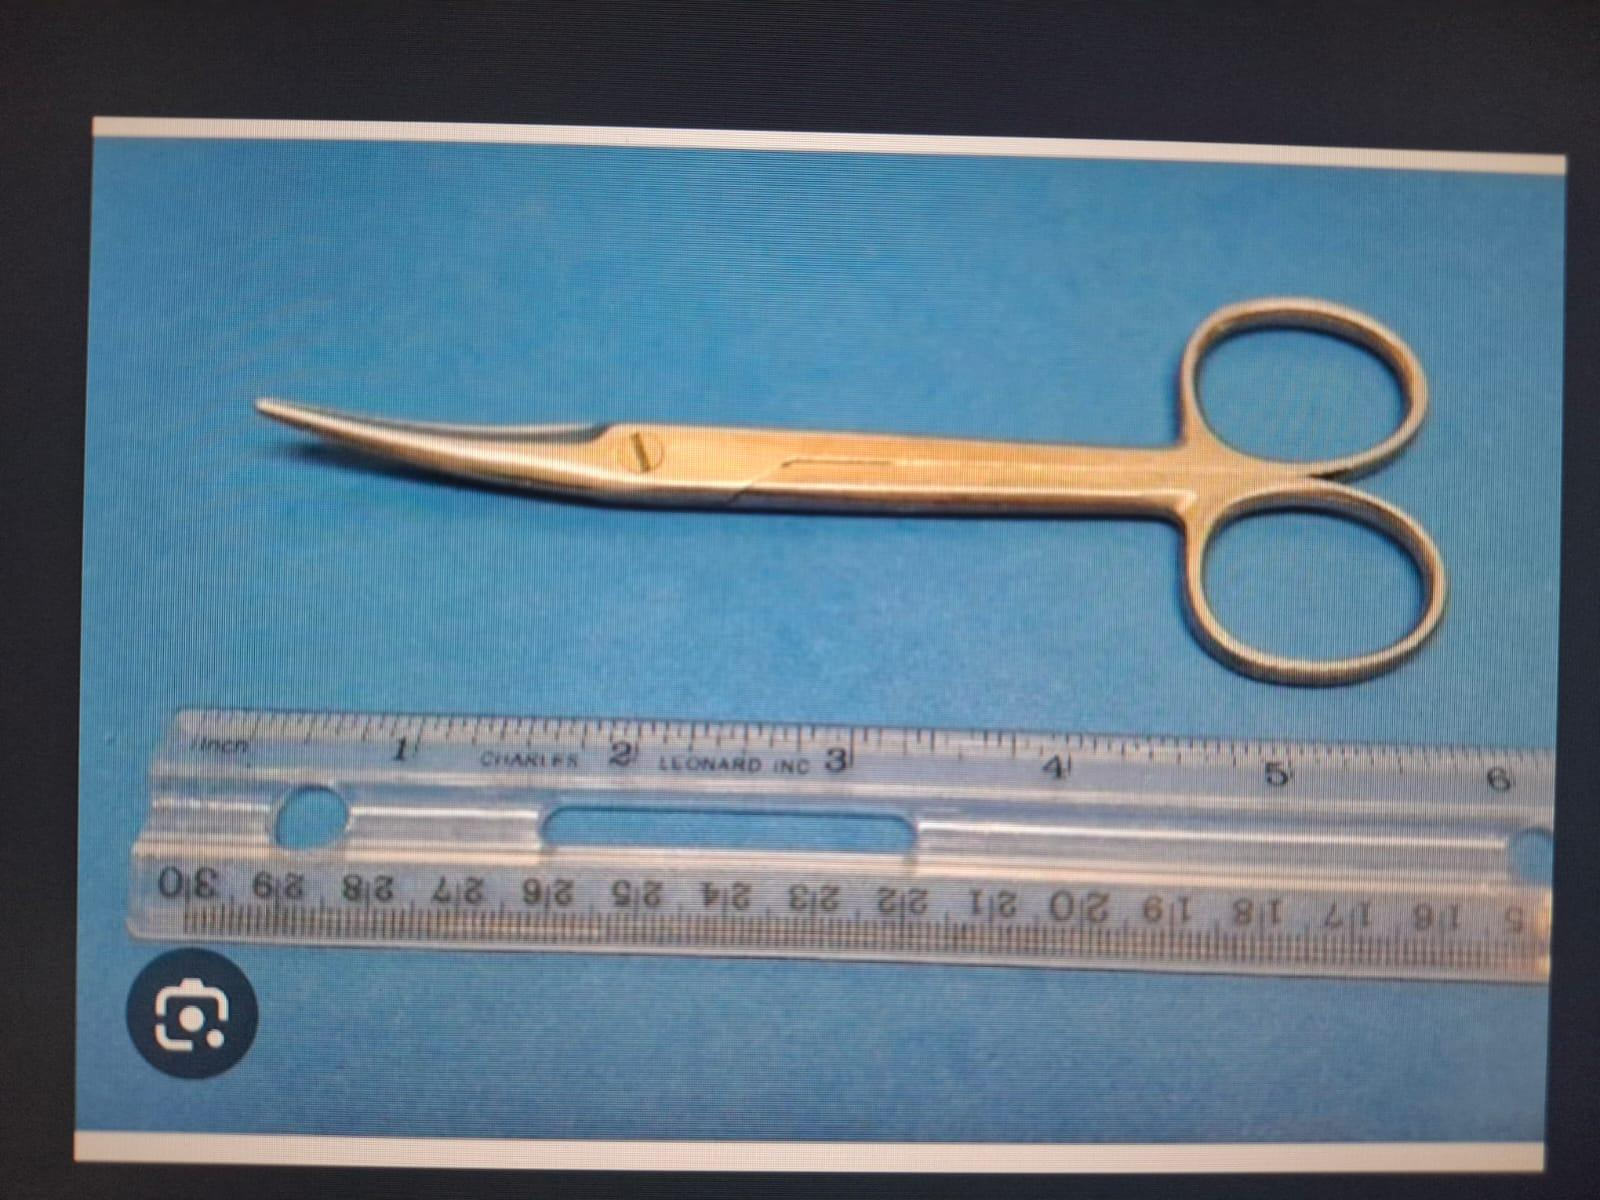Curved Mayo: (244, 268, 1460, 702)
